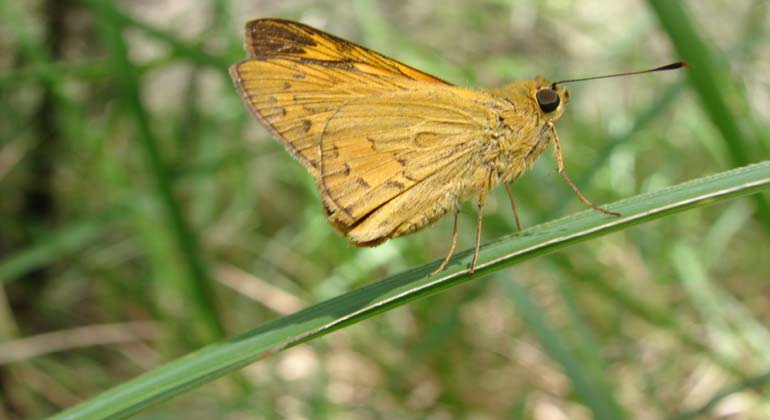Rice_skipper: (237, 13, 575, 247)
